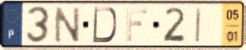2: (162, 6, 188, 44)
3: (24, 5, 52, 45)
D: (91, 6, 119, 44)
F: (125, 7, 149, 43)
I: (194, 6, 204, 44)
N: (53, 5, 82, 45)
